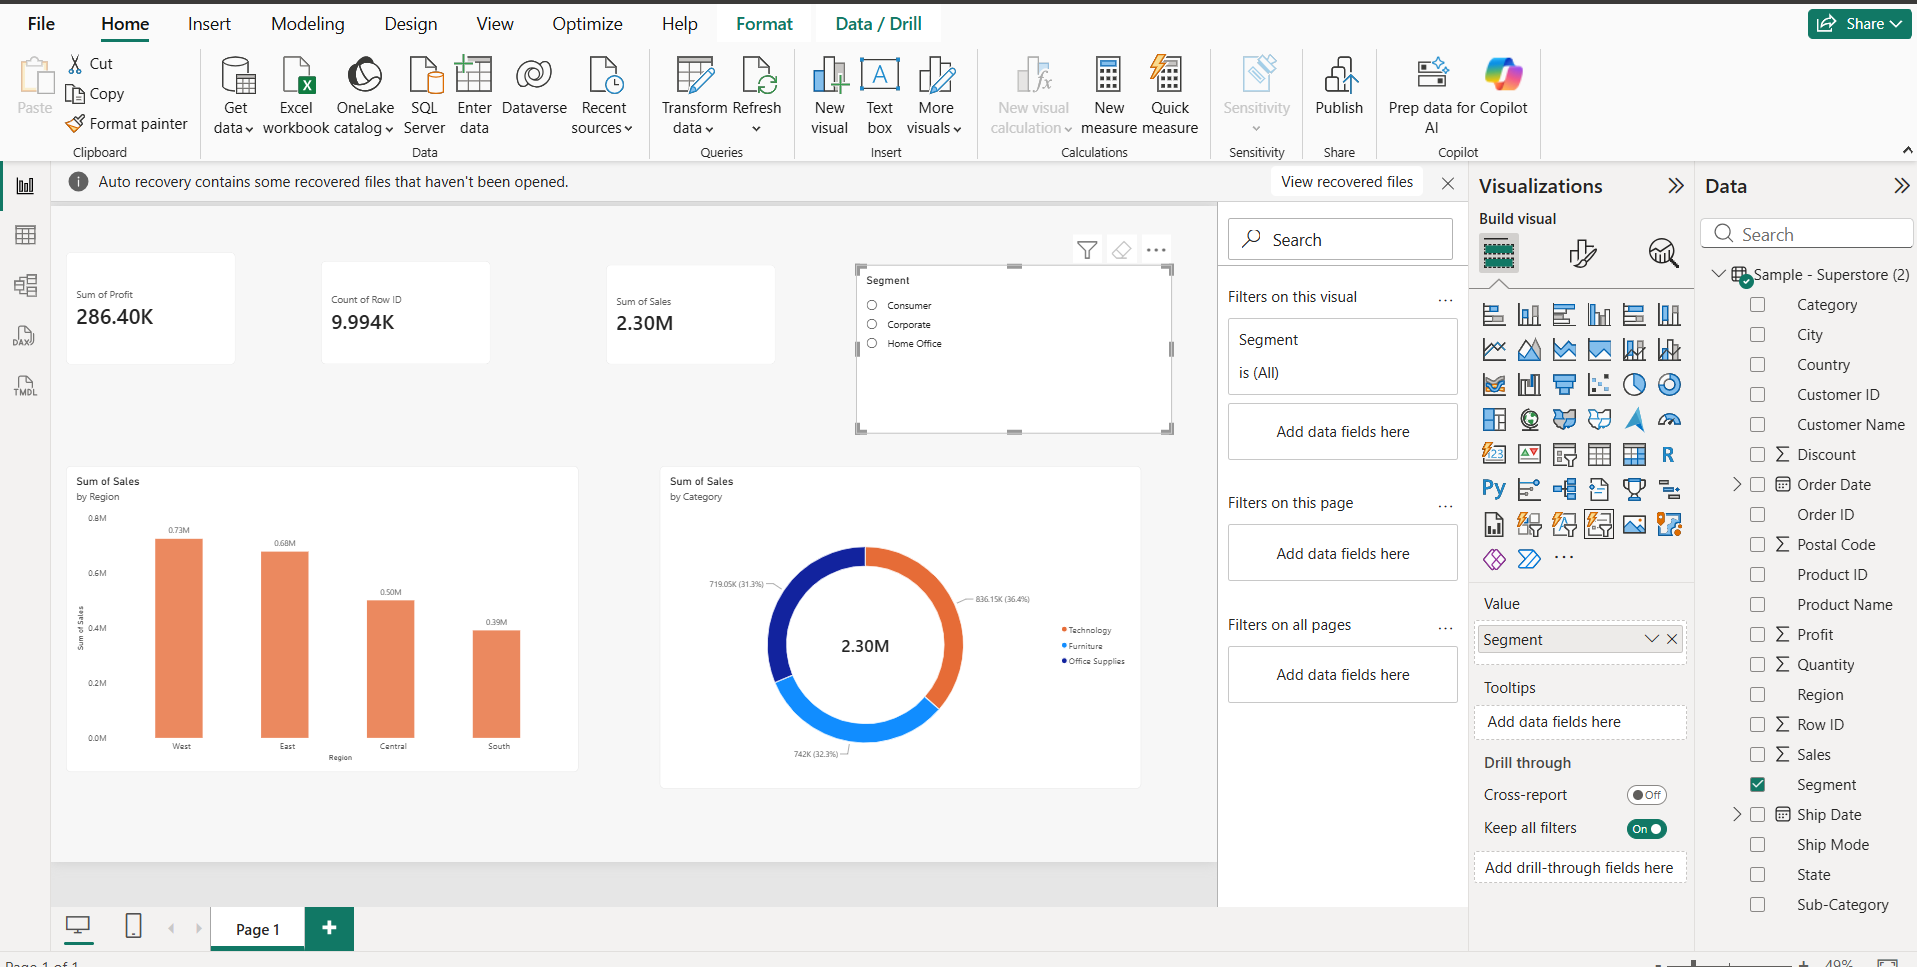

Layout of this report page (visuals, bound fields, positions):
{"tool":"powerbi","page":{"name":"Page 1","canvas":[1920,1080],"ordinal":0},"visuals":[{"type":"cardVisual","fields":{"Data":["CountNonNull(Sample - Superstore (2).Row ID)"]},"box":[444.6,90.6,279.9,170.8],"z":0},{"type":"cardVisual","fields":{"Data":["Sum(Sample - Superstore (2).Sales)"]},"box":[913.9,96.7,279.9,164.7],"z":1},{"type":"cardVisual","fields":{"Data":["Sum(Sample - Superstore (2).Profit)"]},"box":[24.7,76.2,279.9,185.2],"z":2},{"type":"clusteredColumnChart","fields":{"Category":["Sample - Superstore (2).Region"],"Y":["Sum(Sample - Superstore (2).Sales)"]},"box":[24.7,428.1,843.9,504.3],"z":3},{"type":"donutChart","fields":{"Category":["Sample - Superstore (2).Category"],"Y":["Sum(Sample - Superstore (2).Sales)"]},"box":[1002.4,428.1,792.5,531],"z":4},{"type":"listSlicer","fields":{"Values":["Sample - Superstore (2).Segment"]},"box":[1325.6,96.7,520.8,277.9],"z":5}]}

Visuals, with their boxes on the page's 1920x1080 design canvas (x1, y1, x2, y2). These are canvas units, not pixel positions in the 1917x967 screenshot, which may show the page scaled, cropped or inside an application window:
cardVisual - CountNonNull(Sample - Superstore (2).Row ID): <region>445, 91, 724, 261</region>
cardVisual - Sum(Sample - Superstore (2).Sales): <region>914, 97, 1194, 261</region>
cardVisual - Sum(Sample - Superstore (2).Profit): <region>25, 76, 305, 261</region>
clusteredColumnChart - Sample - Superstore (2).Region x Sum(Sample - Superstore (2).Sales): <region>25, 428, 869, 932</region>
donutChart - Sample - Superstore (2).Category x Sum(Sample - Superstore (2).Sales): <region>1002, 428, 1795, 959</region>
listSlicer - Sample - Superstore (2).Segment: <region>1326, 97, 1846, 375</region>
